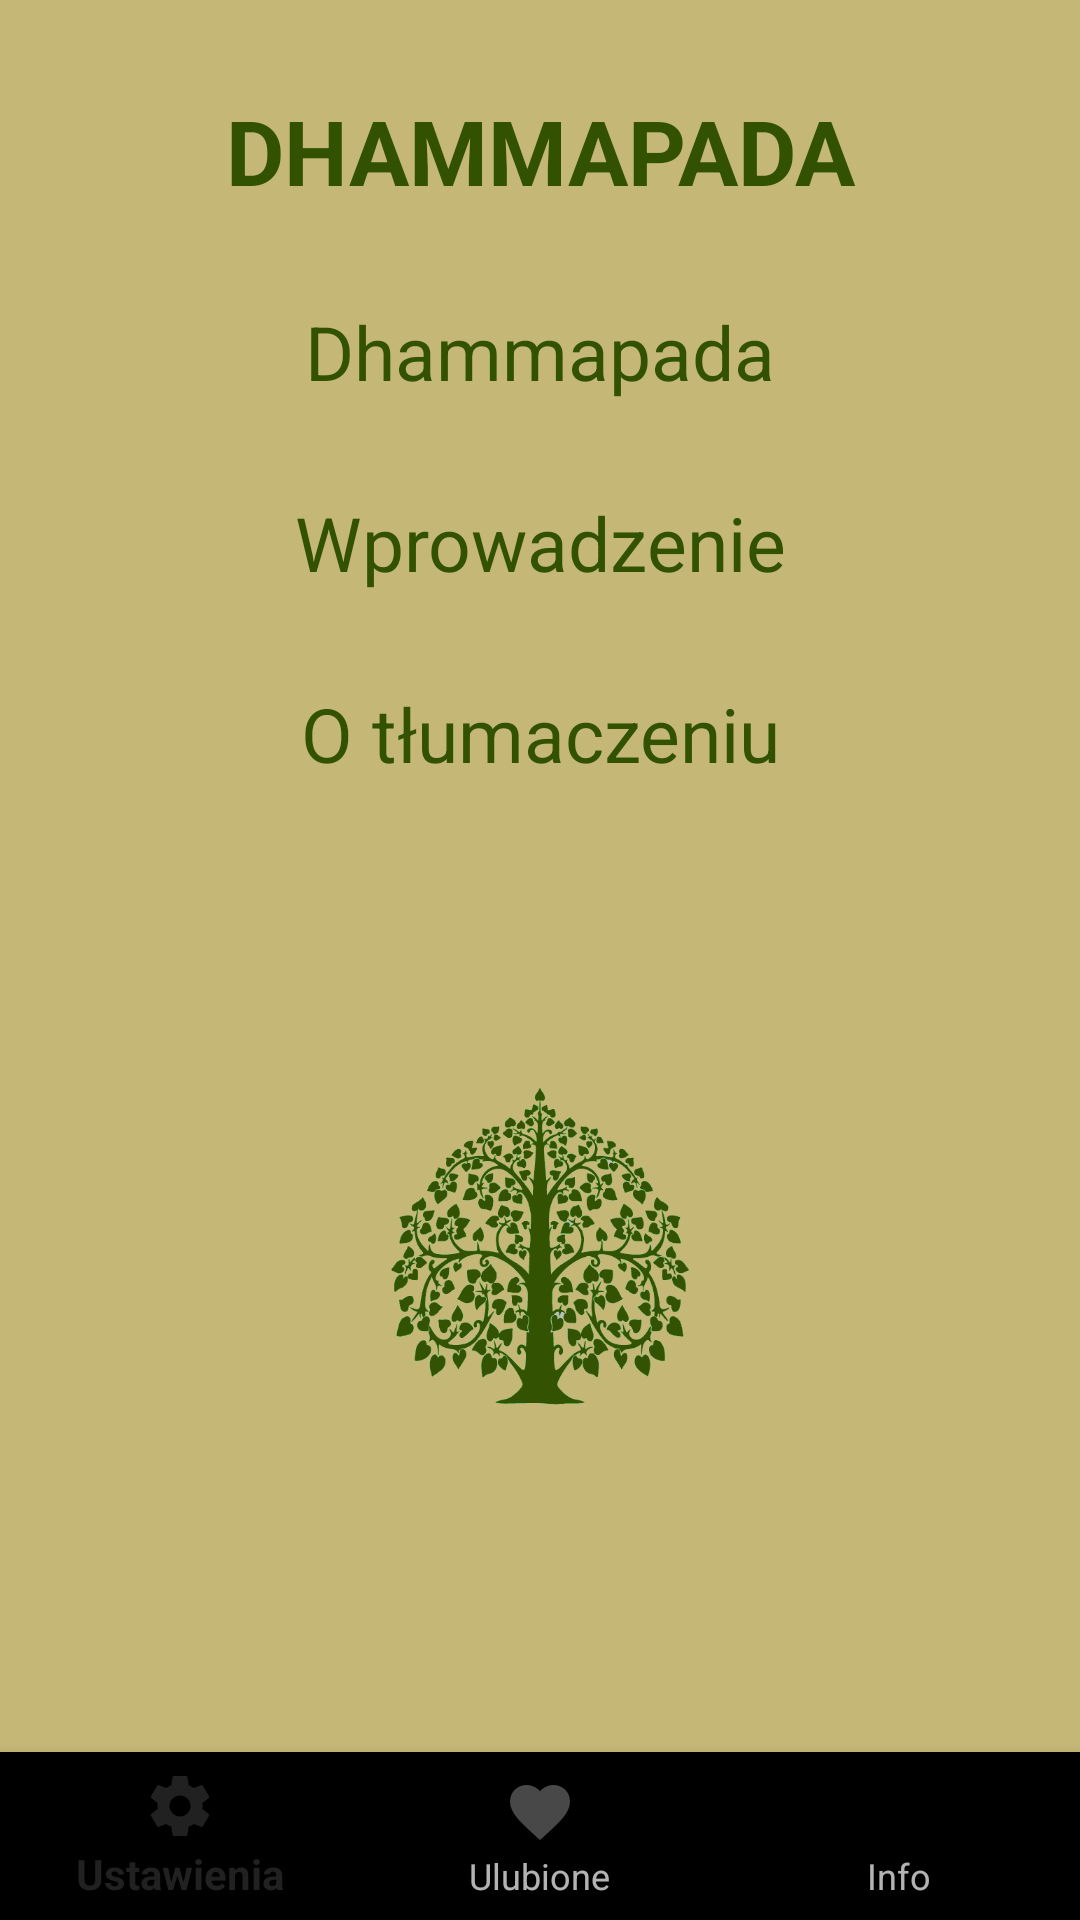

Icons on this 1080px x 1920px Android screen, each with the point to tap as [x,y]:
treedarkergreen: [540,1246]
